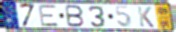3: (88, 5, 107, 28)
5: (115, 5, 134, 28)
7: (19, 2, 37, 28)
B: (64, 5, 85, 28)
E: (38, 4, 61, 27)
K: (136, 6, 156, 28)
